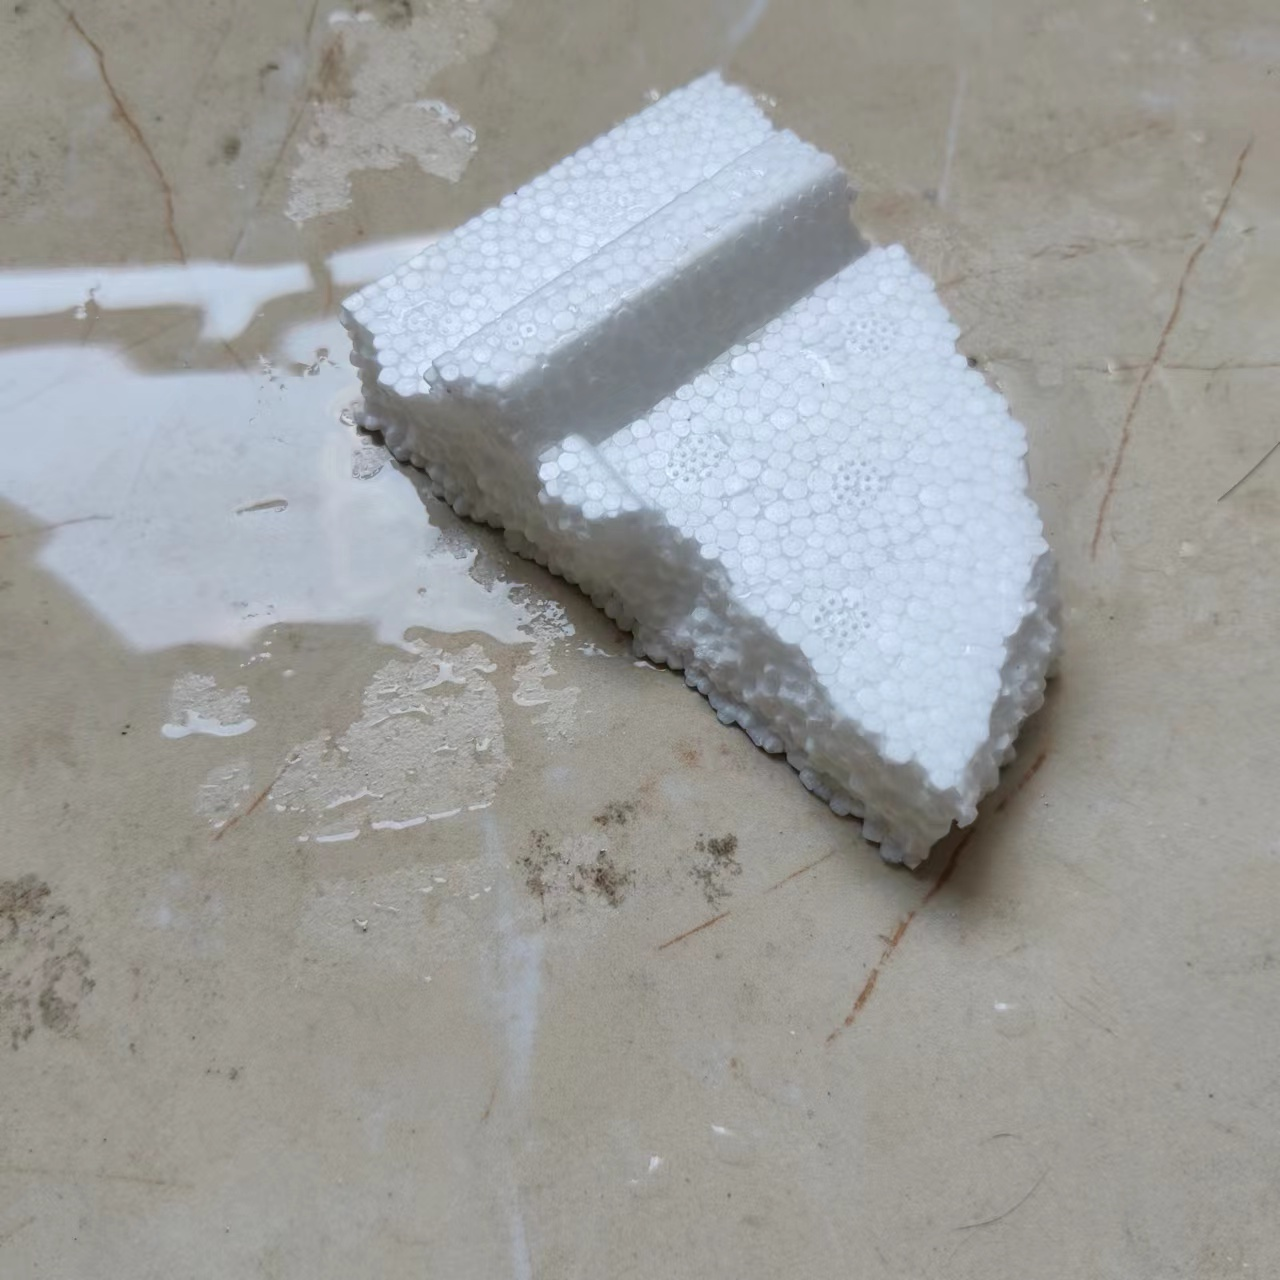5/可回收垃圾/泡沫: (338, 69, 1067, 873)
